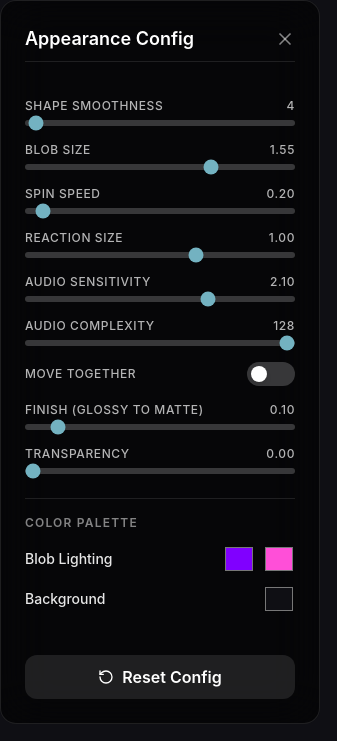
Test: ControlPanel › updates the store when a slider is changed
The width and height of the screenshot is (337, 741).
Set the slider labelled "Audio Sensitivity" to "3.0" at (287, 299), box [25,296,295,302]
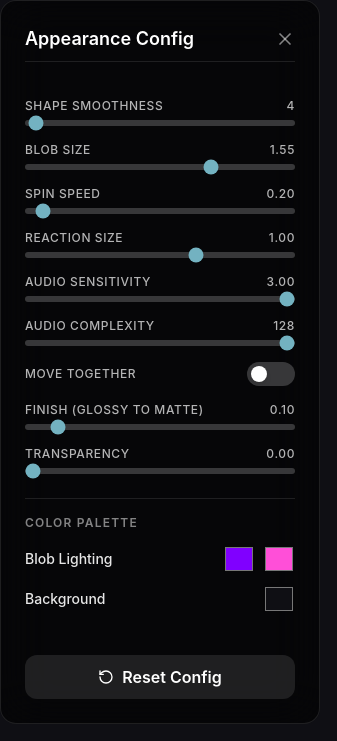
expect the slider labelled "Audio Sensitivity" holds "3": met, box [25,296,295,302]
